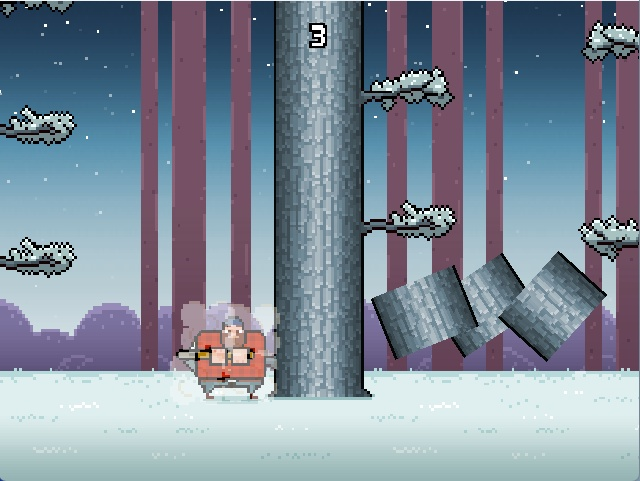right_obs: (348, 190, 463, 248), (357, 65, 461, 119)
timberman: (174, 289, 278, 409)
